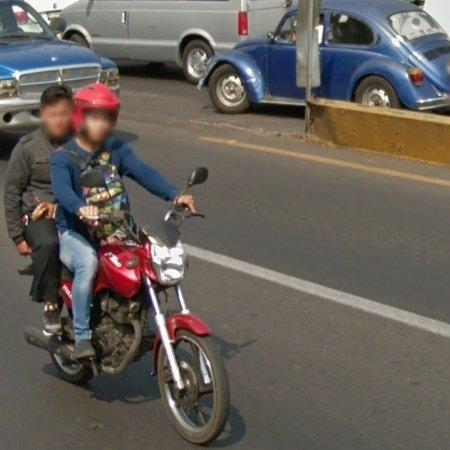motorcycles: (25, 205, 230, 446)
